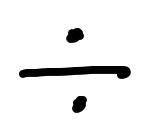div: (19, 28, 131, 113)
